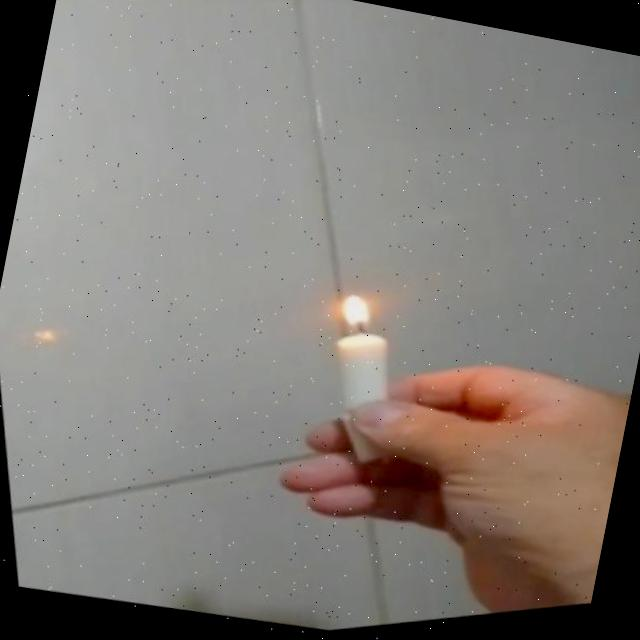fire: (324, 289, 387, 354)
